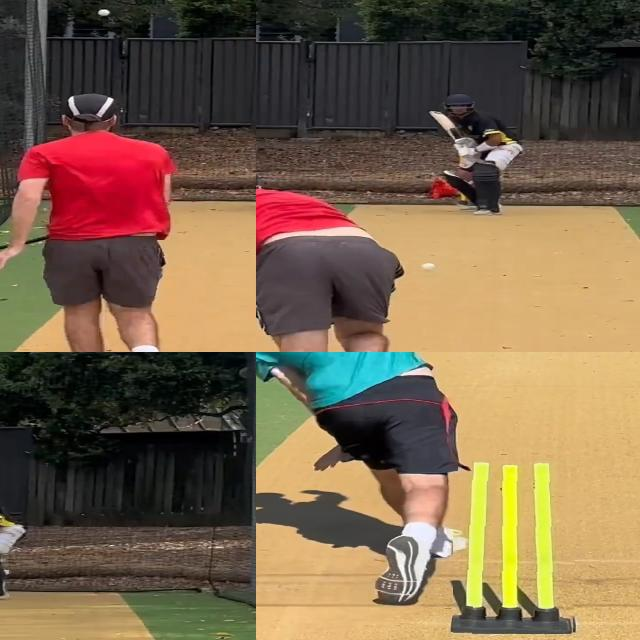Cricket ball: (420, 262, 438, 272), (98, 8, 112, 18)
Stumps: (453, 457, 577, 634)
